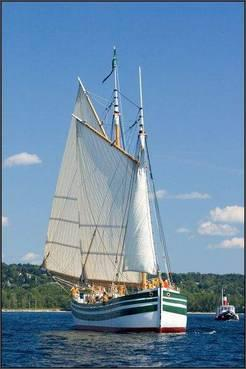Ship: (46, 47, 188, 333), (216, 298, 239, 321)
